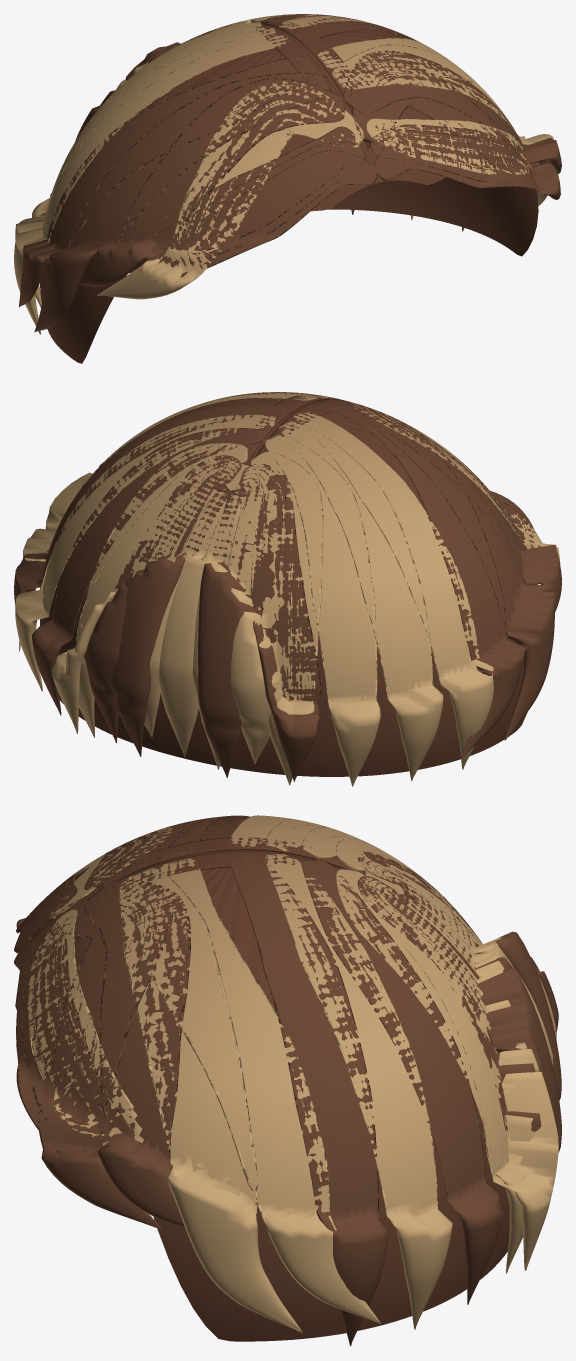
The model's file is Highlights-f979f22fd283251-hair.glb.
3 views of the same model, one above another, from view 1: azimuth 30°, elevation 25°; view 2: azimuth 150°, elevation 25°; view 3: azimuth 270°, elevation 25° (orthographic). The views are drawn at different scales.
Visible parts, largest first — view 1: 226 hair / Hair / chestnut226.002, 226 hair / Hair / recessed roots251.002, 226 hair / Hair / main251.001, 226 hair / Hair / accent251.001, 226 hair / Hair / recessed roots251.003; view 2: 226 hair / Hair / main251.001, 226 hair / Hair / accent251.001, 226 hair / Hair / chestnut226.002, 226 hair / Hair / recessed roots251.002, 226 hair / Hair / recessed roots251.003; view 3: 226 hair / Hair / chestnut226.002, 226 hair / Hair / main251.001, 226 hair / Hair / accent251.001, 226 hair / Hair / recessed roots251.002, 226 hair / Hair / recessed roots251.003.
Part boxes in pixels (x1,y1,x2,y2): 226 hair / Hair / chestnut226.002: [19, 38, 561, 332]; 226 hair / Hair / recessed roots251.002: [40, 24, 538, 363]; 226 hair / Hair / main251.001: [14, 14, 464, 334]; 226 hair / Hair / accent251.001: [15, 14, 413, 307]; 226 hair / Hair / recessed roots251.003: [253, 20, 370, 148]; 226 hair / Hair / main251.001: [14, 404, 493, 786]; 226 hair / Hair / accent251.001: [15, 414, 443, 785]; 226 hair / Hair / chestnut226.002: [19, 392, 561, 758]; 226 hair / Hair / recessed roots251.002: [40, 398, 527, 776]; 226 hair / Hair / recessed roots251.003: [243, 394, 355, 465]; 226 hair / Hair / chestnut226.002: [14, 815, 381, 1333]; 226 hair / Hair / main251.001: [229, 815, 561, 1345]; 226 hair / Hair / accent251.001: [265, 819, 558, 1329]; 226 hair / Hair / recessed roots251.002: [15, 818, 509, 1341]; 226 hair / Hair / recessed roots251.003: [51, 837, 363, 922].
Bounding box in the file's own units: 1.07 × 0.5734 × 0.7871.
